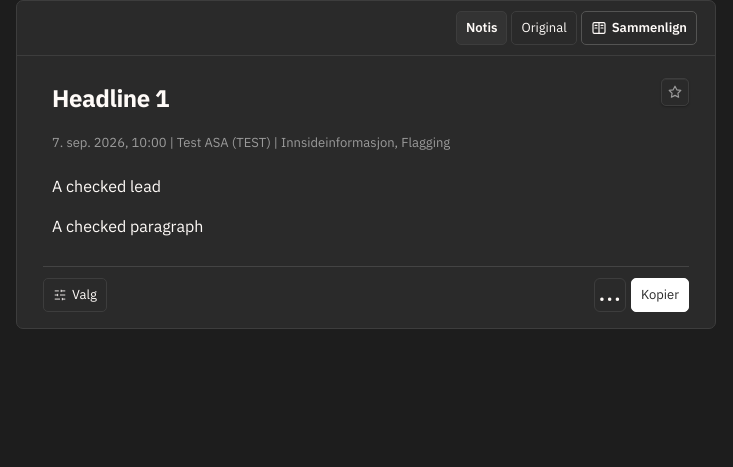
uses the remembered character limit on a new composer
This screenshot has width=733, height=467.
Click the button "Valg": (75, 295) [43,278,107,312]
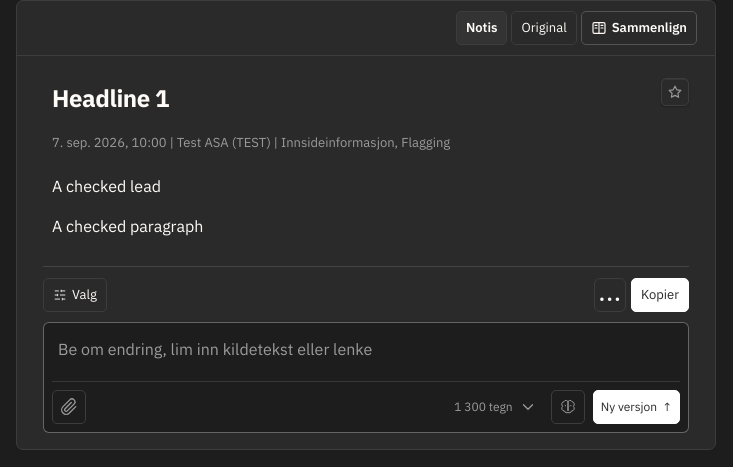
Check: the button with aria-label "Ønsket lengde, omtrent 1300 tegn" is shown, box [446,390,545,424]
